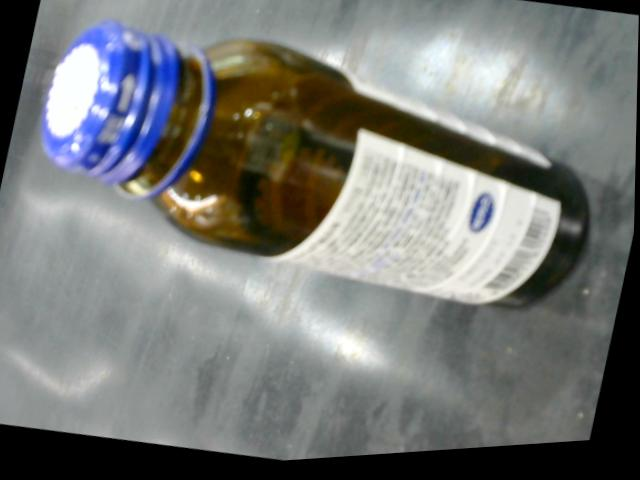glass: (31, 17, 602, 328)
